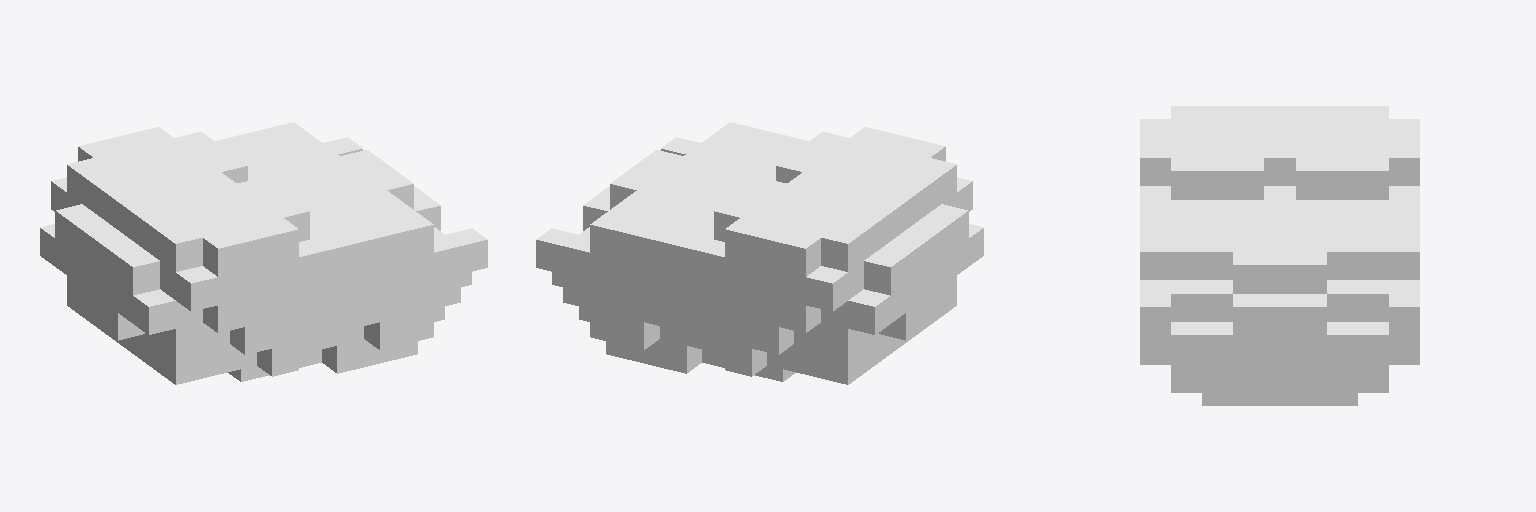
Rendered from Enemy1-14.obj.
The picture shows the model from 3 angles: view 1: azimuth 30°, elevation 25°; view 2: azimuth 150°, elevation 25°; view 3: azimuth 270°, elevation 25°; orthographic projection.
Parts seen in each view (by area): view 1: object 1; view 2: object 1; view 3: object 1.
Boxes of the visible parts, x1,y1,x2,y2 form: object 1: [40, 122, 487, 384]; object 1: [536, 122, 983, 384]; object 1: [1140, 106, 1419, 405].
Size of the model in its own units: 1.2 by 0.6 by 0.9.